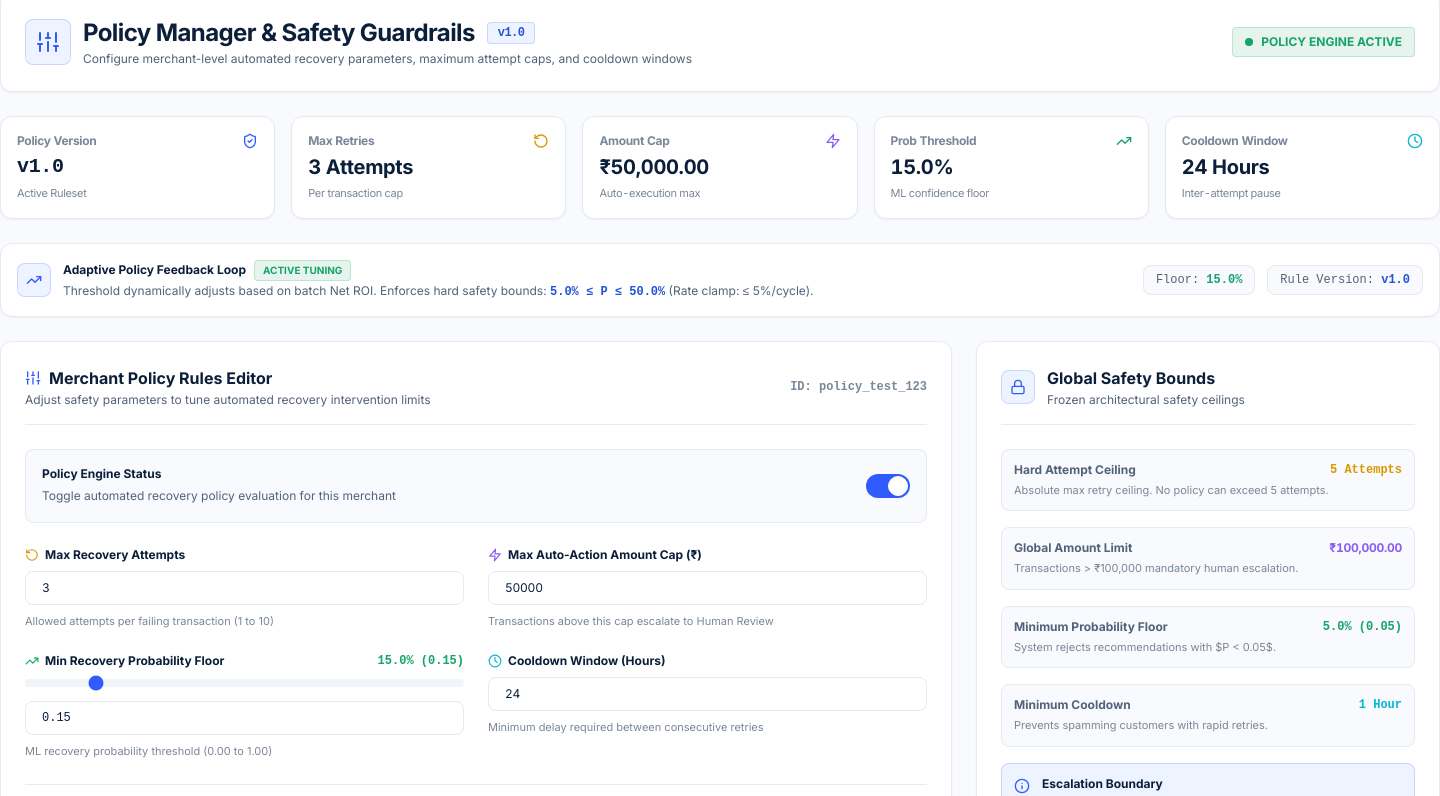
Step 35: Policy Manager Dashboard Test Suite › 4. Resets form fields back to currently active policy state
This screenshot has width=1440, height=796.
Step 1. Replace the text in the number field labelled "Max Recovery Attempts" with "5" → (244, 588), box 25,570 -> 464,604
(page scrolled)
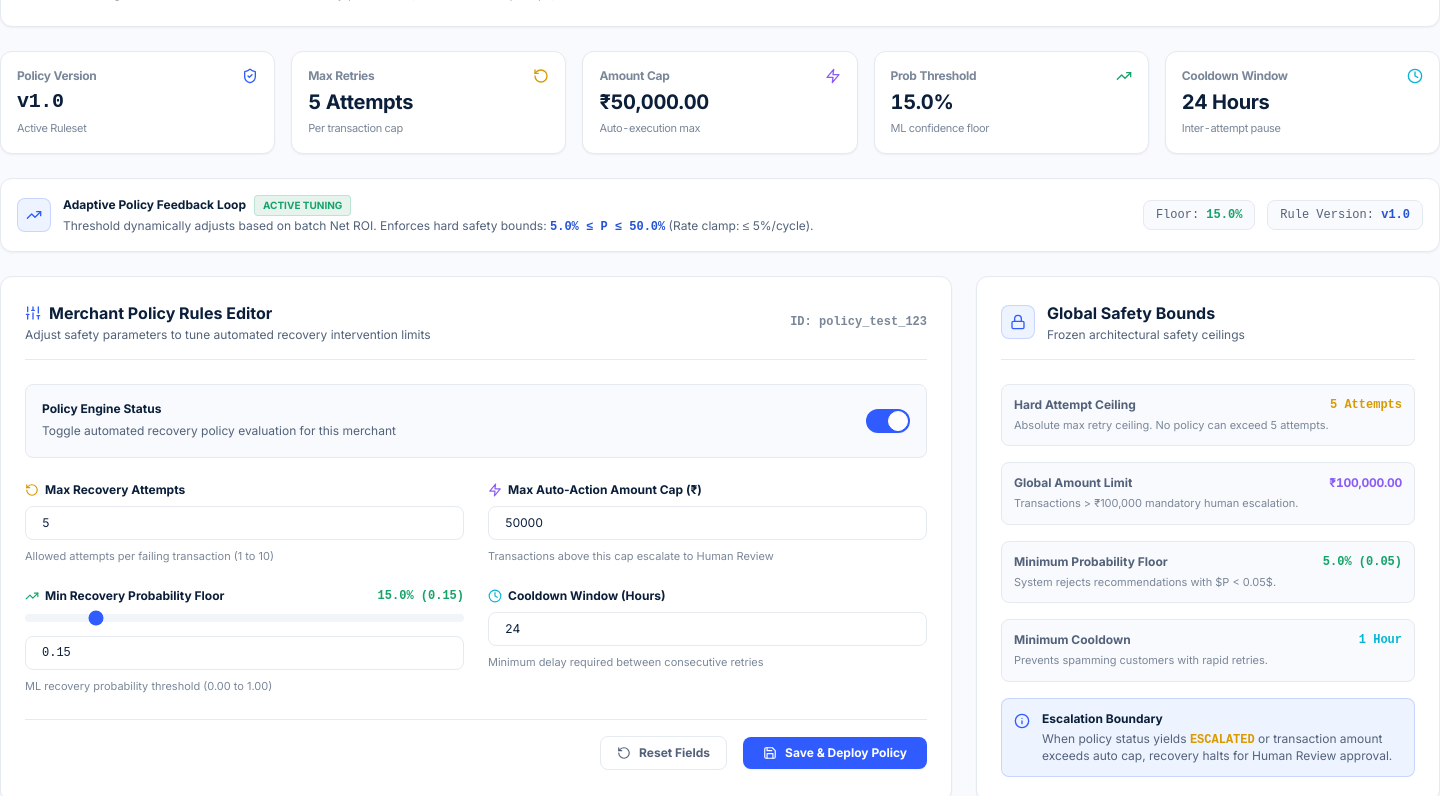
Step 2. Click the button "Reset Fields" → click(664, 752), box 600,736 -> 727,770
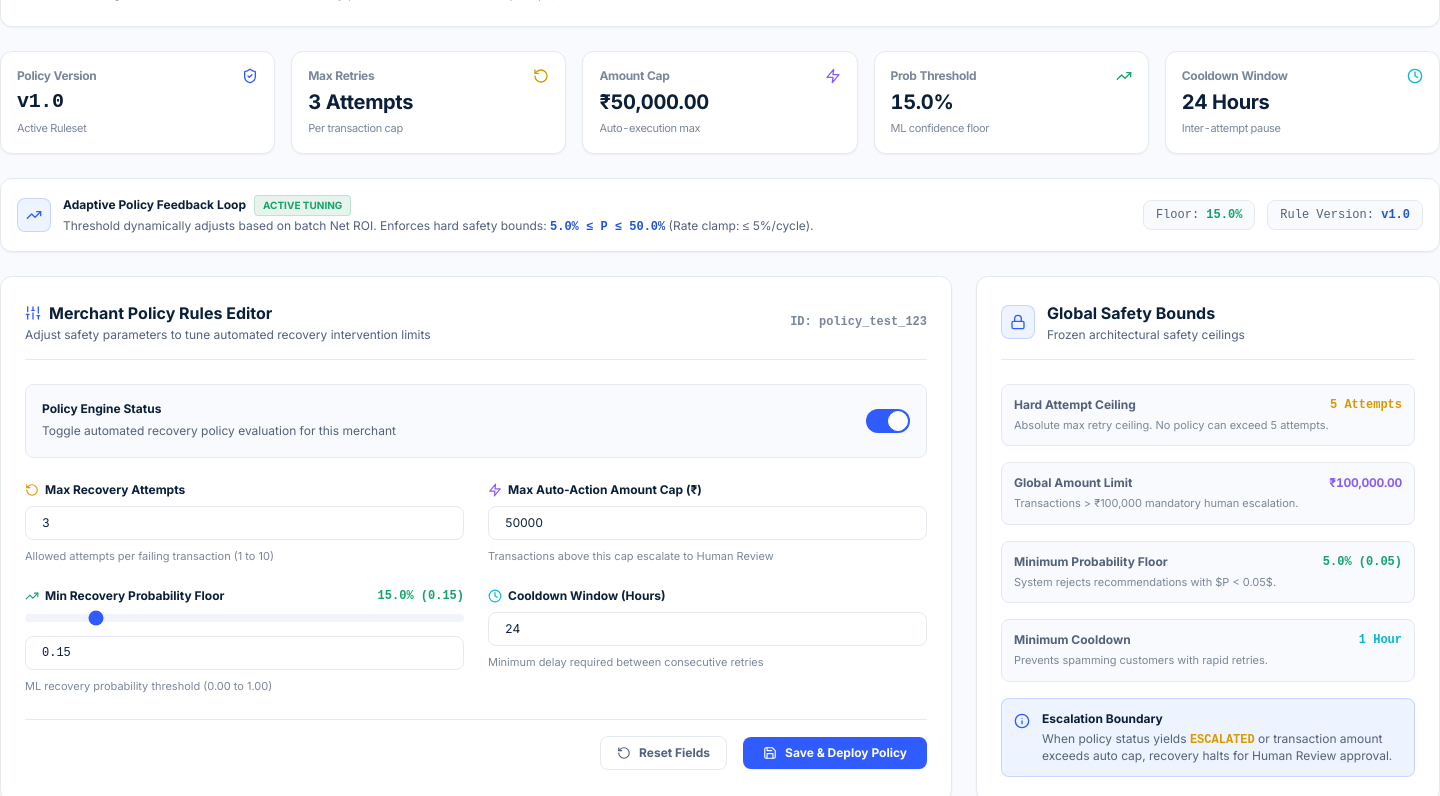
Check: the number field labelled "Max Recovery Attempts" holds "3", box 25,506 -> 464,540
